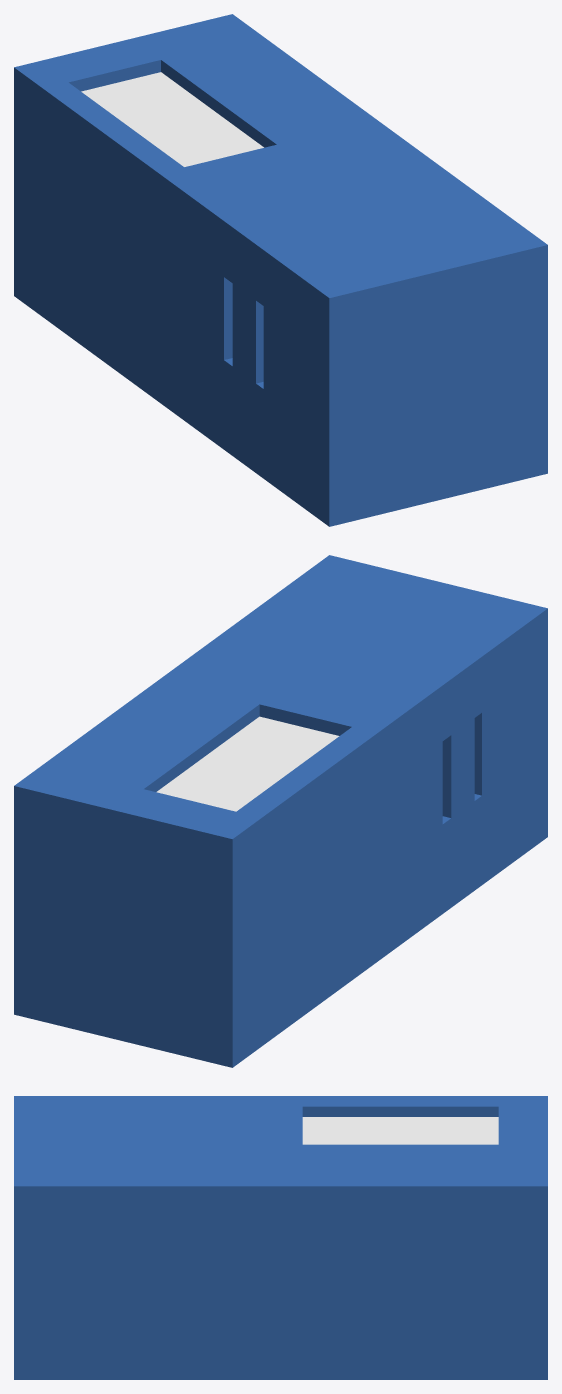
Rendered from 13 Storage Box.FBX.
The picture shows the model from 3 angles, top to bottom: view 1: azimuth 30°, elevation 25°; view 2: azimuth 150°, elevation 25°; view 3: azimuth 270°, elevation 25°; orthographic projection. The views are drawn at different scales.
Visible parts, largest first — view 1: Box030; view 2: Box030; view 3: Box030.
Boxes of the visible parts, box(x1,y1,x2,y2) form: Box030: box(14, 14, 547, 526); Box030: box(14, 555, 547, 1067); Box030: box(14, 1096, 547, 1379).
Size of the model in its own units: 400 by 400 by 1000.
